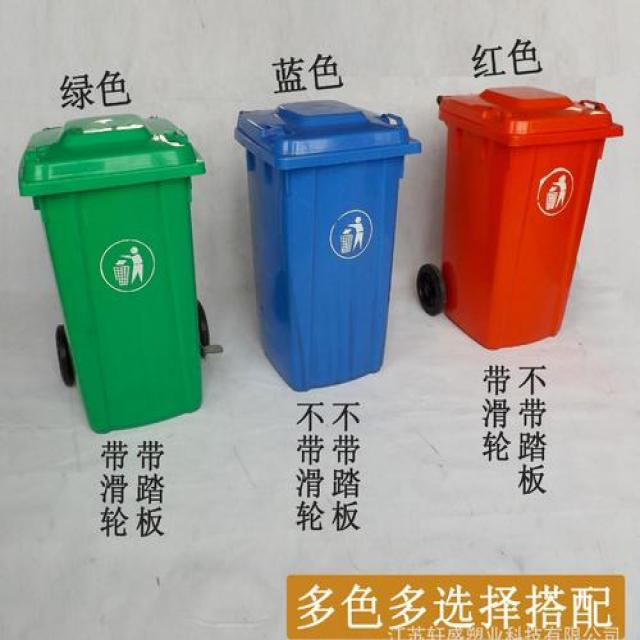garbage_bin: (15, 113, 206, 434), (233, 97, 421, 391), (434, 85, 622, 349)
